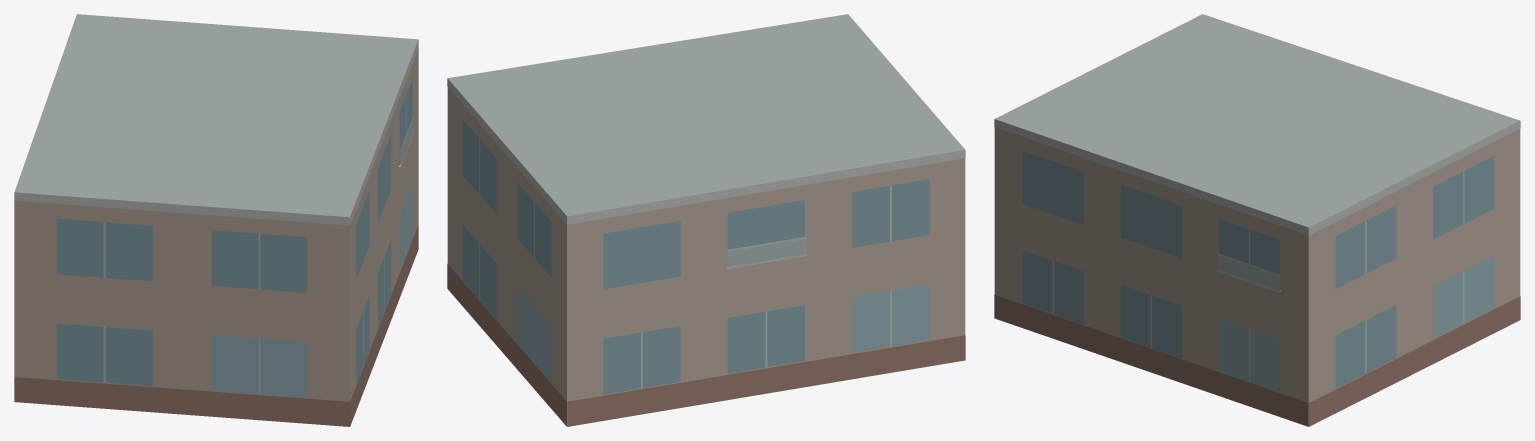
Rendered from survey-upis-33009430.glb.
The picture shows the model from 3 angles, left to right: view 1: azimuth 30°, elevation 25°; view 2: azimuth 150°, elevation 25°; view 3: azimuth 270°, elevation 25°; orthographic projection. The views are drawn at different scales.
Visible parts, largest first — view 1: survey-upis-33009430.tmp; view 2: survey-upis-33009430.tmp; view 3: survey-upis-33009430.tmp.
Boxes of the visible parts, left/top/right/bottom form: survey-upis-33009430.tmp: left=14, top=14, right=418, bottom=426; survey-upis-33009430.tmp: left=447, top=14, right=965, bottom=426; survey-upis-33009430.tmp: left=994, top=14, right=1520, bottom=426.
Bounding box in the file's own units: 14.02 × 6.1 × 14.59.
